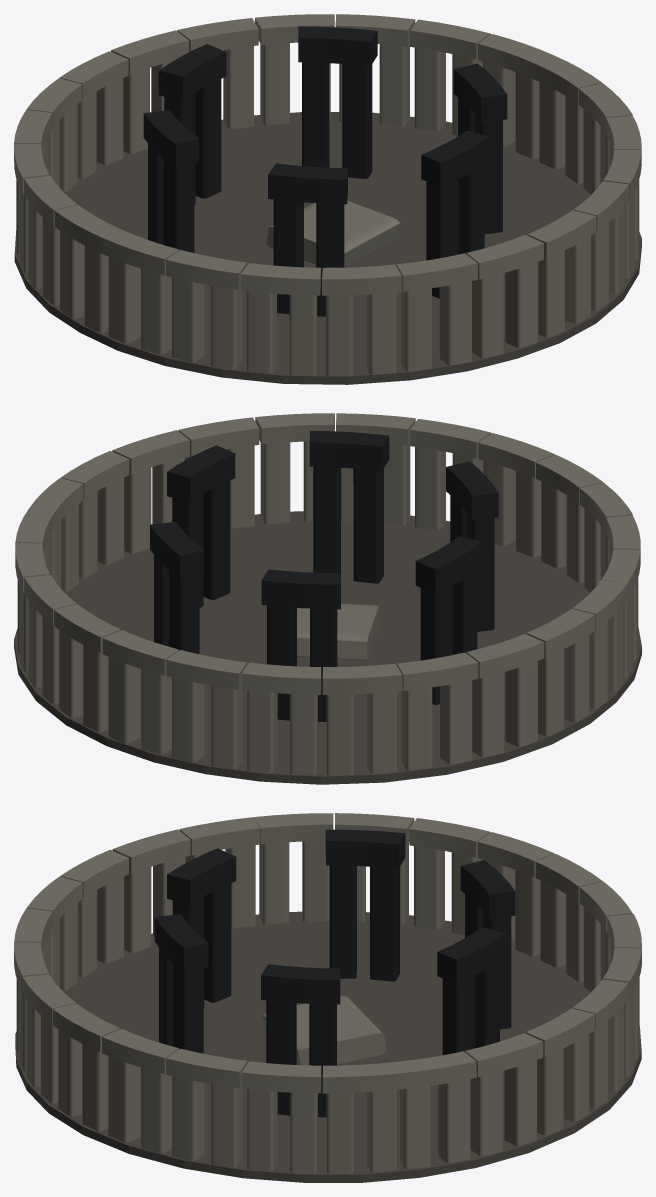
File: StoneAge0.02.fbx
3 renders of one model, top to bottom at view 1: azimuth 30°, elevation 25°; view 2: azimuth 150°, elevation 25°; view 3: azimuth 270°, elevation 25°, orthographic.
Parts seen in each view (by area): view 1: Object_16; view 2: Object_16; view 3: Object_16.
Part boxes in pixels (bbox=[...]): Object_16: bbox=[14, 14, 641, 384]; Object_16: bbox=[14, 413, 641, 784]; Object_16: bbox=[14, 813, 641, 1182].
Size of the model in its own units: 3481 by 900 by 3497.
